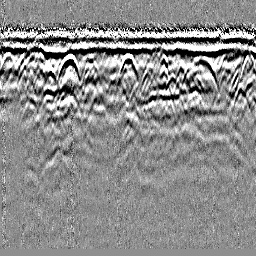cavity: (117, 51, 141, 90)
